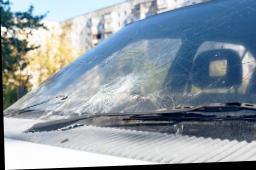Windshield: (4, 0, 256, 143)
